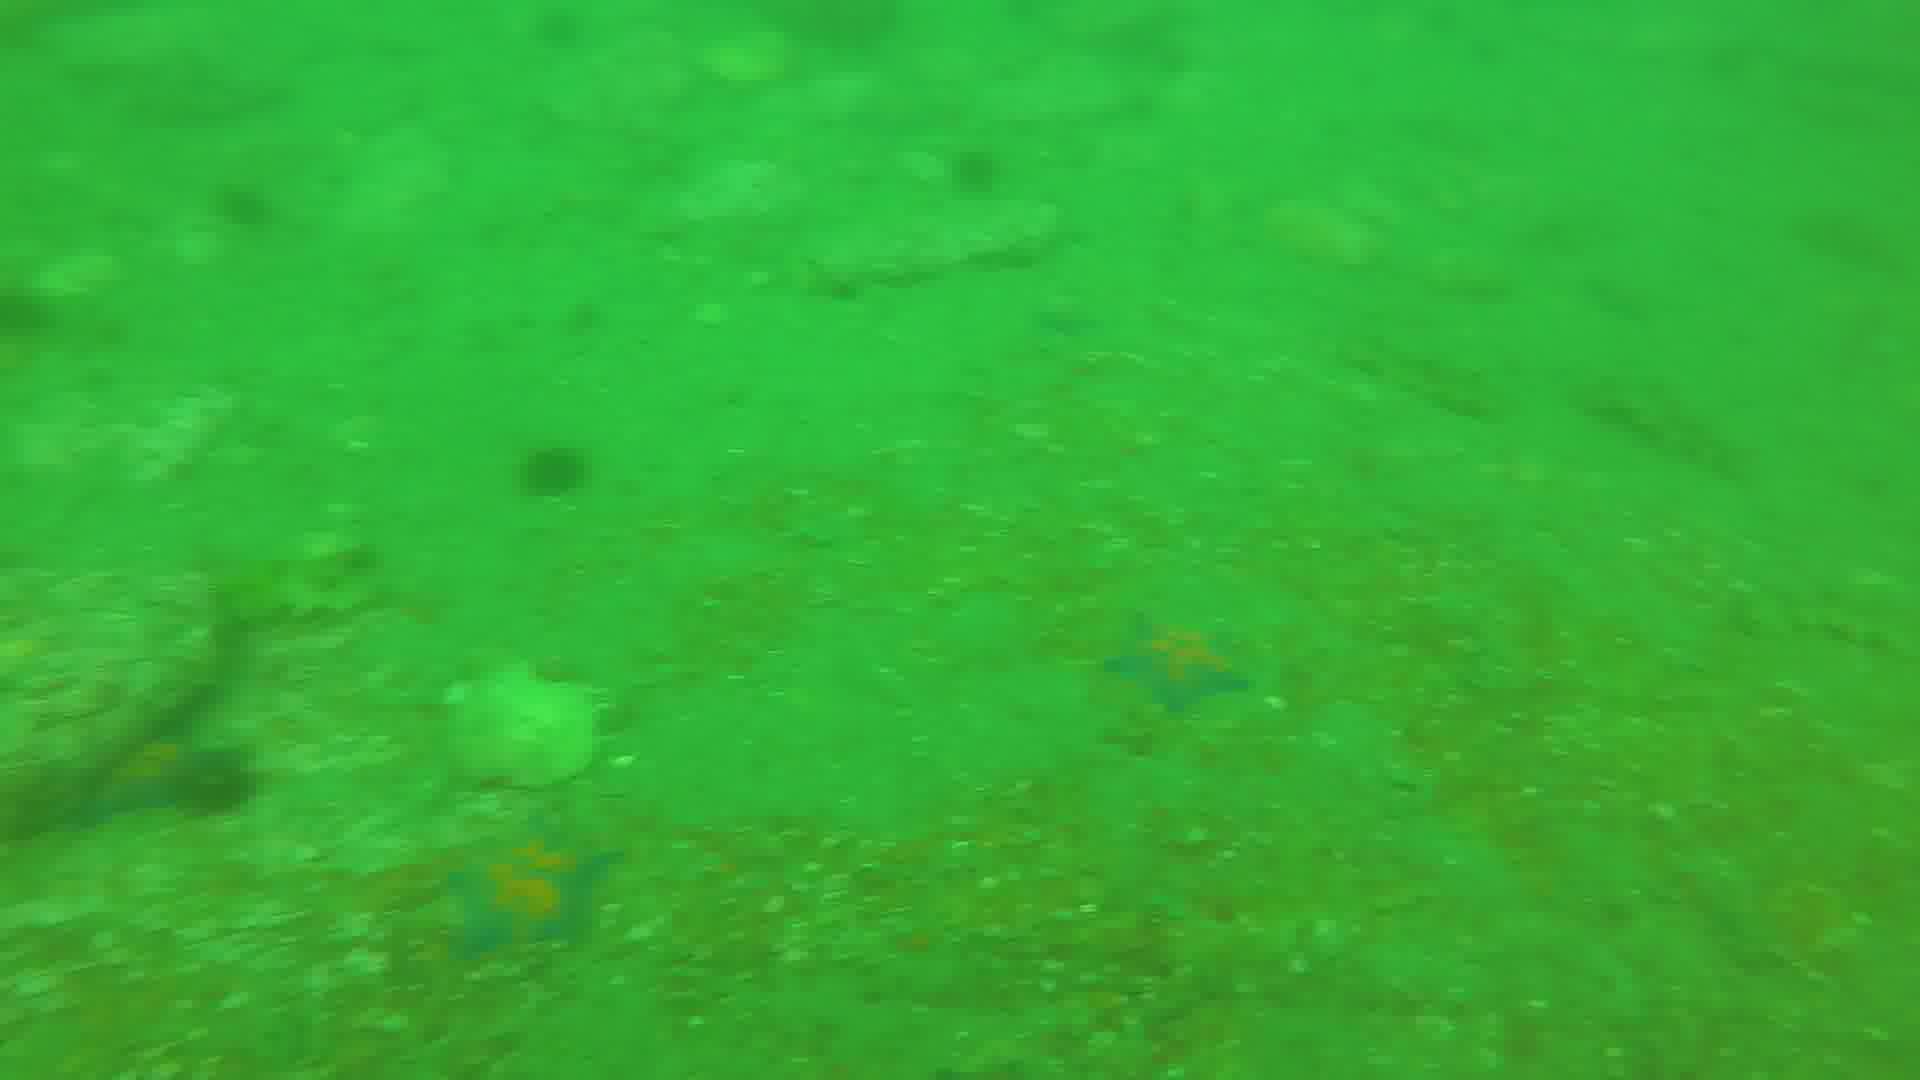echinus: (171, 754, 265, 814), (512, 447, 587, 506), (218, 189, 276, 225)
holothurian: (1577, 371, 1743, 475), (1356, 330, 1505, 419), (1745, 578, 1920, 642)
starfish: (439, 808, 618, 961), (1118, 612, 1257, 702), (1038, 295, 1110, 342)
